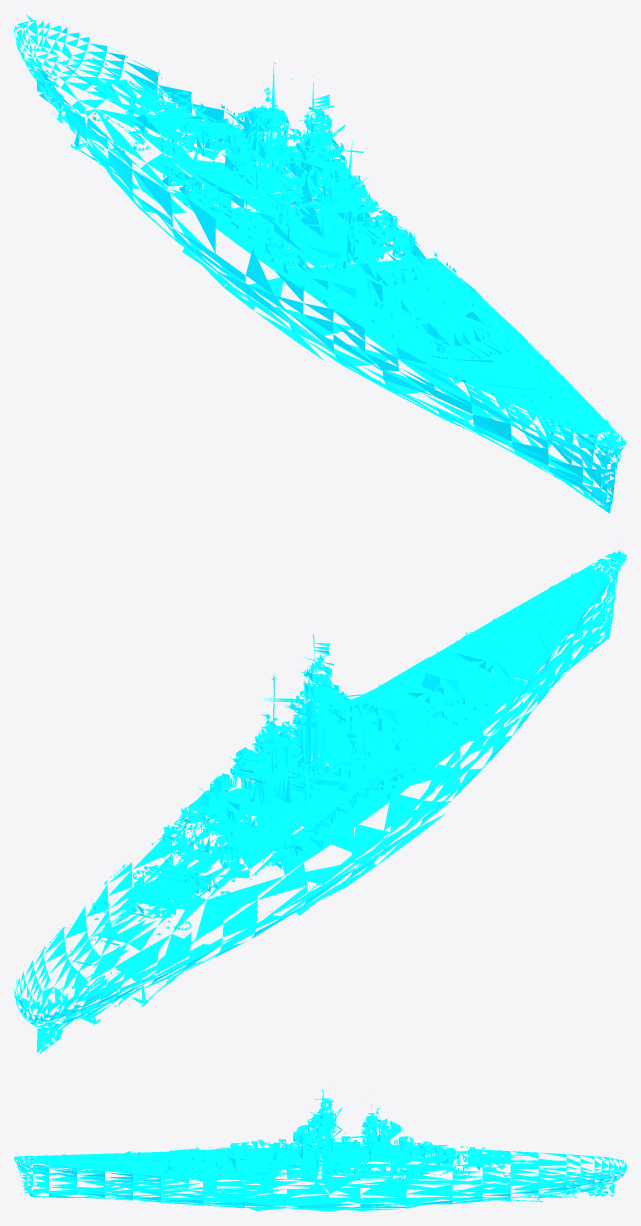
The model's file is PFSB510.glb.
3 renders of one model, top to bottom at view 1: azimuth 30°, elevation 25°; view 2: azimuth 150°, elevation 25°; view 3: azimuth 270°, elevation 25°, orthographic. The views are drawn at different scales.
Parts seen in each view (by area): view 1: hull_mid, hull_bow, hull_stern, main_battery, secondary_battery, hull_body, aa_mount; view 2: hull_mid, hull_bow, hull_stern, main_battery, secondary_battery, aa_mount, hull_body; view 3: hull_mid, hull_bow, hull_stern, main_battery, secondary_battery, aa_mount, hull_body.
Part boxes in pixels (x1,y1,x2,y2): hull_mid: (86, 61, 527, 421); hull_bow: (429, 334, 626, 513); hull_stern: (14, 14, 191, 167); main_battery: (110, 79, 509, 359); secondary_battery: (159, 108, 420, 274); hull_body: (225, 107, 371, 221); aa_mount: (172, 120, 413, 275); hull_mid: (86, 633, 527, 988); hull_bow: (430, 542, 626, 737); hull_stern: (14, 906, 191, 1054); main_battery: (110, 642, 509, 921); secondary_battery: (158, 700, 419, 869); aa_mount: (171, 731, 416, 868); hull_body: (225, 663, 371, 811); hull_mid: (161, 1091, 522, 1211); hull_bow: (14, 1151, 170, 1202); hull_stern: (508, 1151, 626, 1202); main_battery: (144, 1139, 524, 1167); secondary_battery: (261, 1138, 470, 1179); aa_mount: (268, 1132, 445, 1174); hull_body: (313, 1101, 413, 1158).
Size of the model in its own units: 2.41 by 3.63 by 17.65.
